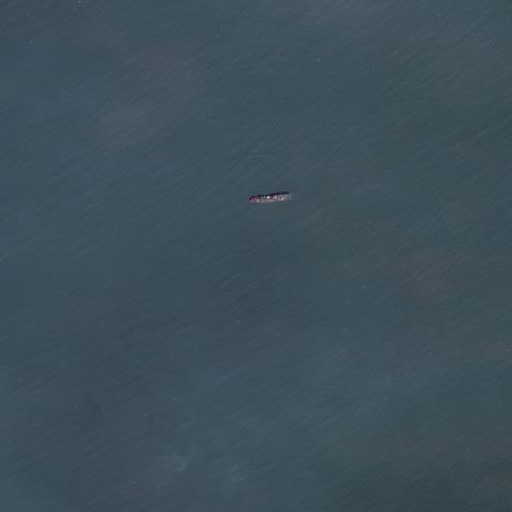ship: (246, 188, 297, 208)
